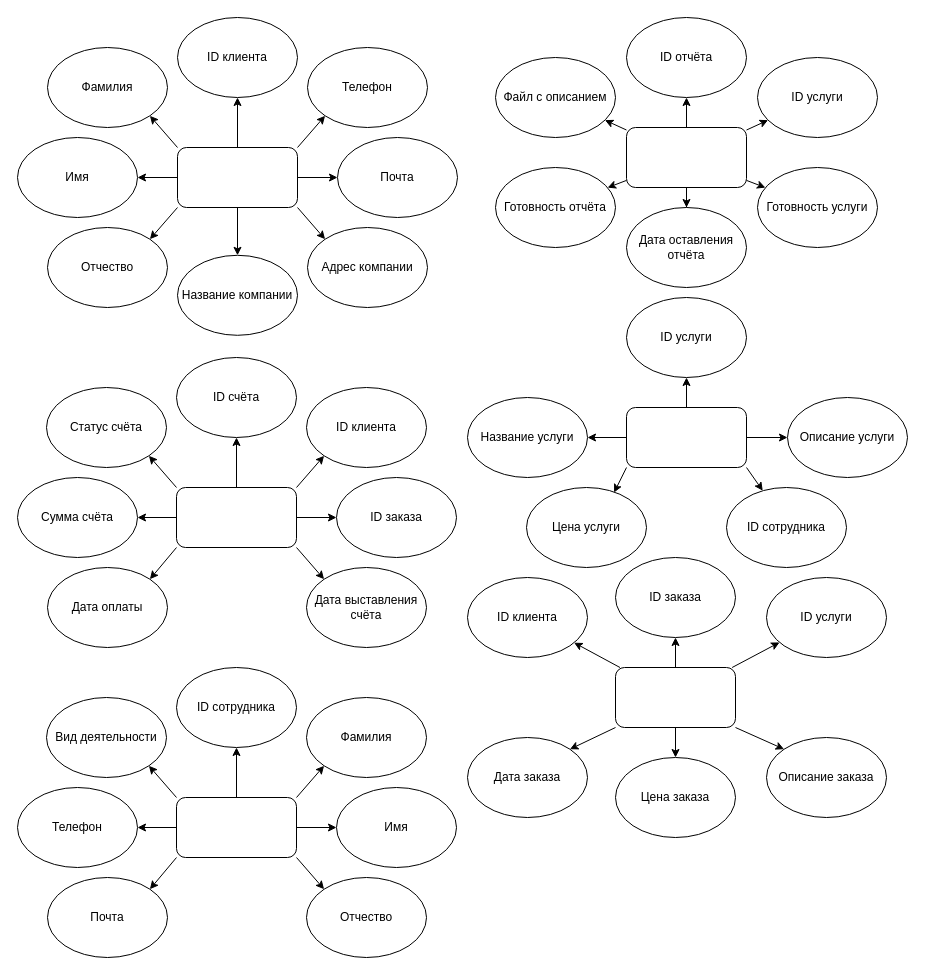
The diagram is 925 pixels wide and 975 high, and some of its shapes have lost their labels. The shapes that lost their labels are listed below. From the top down, each one's centre as x and y in pixels, then its label:
At point (237, 177): "Клиент".
At point (686, 157): "Отчёт".
At point (686, 437): "Услуга".
At point (236, 517): "Счёт".
At point (675, 697): "Заказ".
At point (236, 827): "Сотрудник".
